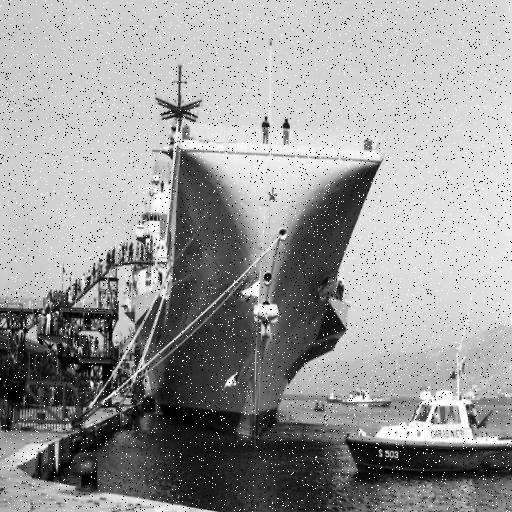Portanaves: (117, 10, 388, 454)
